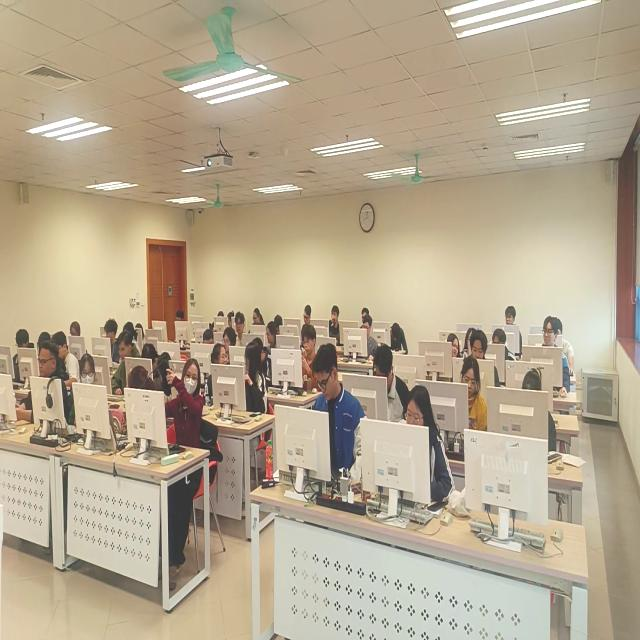raise_hand: (167, 357, 204, 452)
raise_head: (543, 316, 572, 393), (506, 305, 523, 359), (330, 306, 341, 346), (236, 312, 248, 347), (360, 308, 370, 329)
using_computer: (312, 343, 369, 486), (404, 386, 458, 507), (10, 342, 69, 427), (373, 344, 412, 425), (523, 369, 558, 453), (461, 357, 488, 433), (112, 331, 142, 395), (472, 330, 501, 389), (52, 332, 81, 383), (142, 344, 172, 391), (9, 330, 35, 383), (554, 318, 575, 377), (254, 338, 275, 387), (493, 328, 518, 363), (362, 316, 379, 360), (104, 320, 121, 364), (167, 311, 186, 345), (71, 320, 88, 355), (390, 323, 409, 354), (463, 329, 477, 357), (266, 322, 280, 349), (224, 328, 238, 350), (252, 308, 267, 328), (302, 305, 313, 327), (203, 330, 216, 346), (124, 323, 137, 339), (136, 324, 146, 344), (275, 316, 284, 335), (39, 332, 52, 344), (217, 312, 225, 318)
using_phone: (302, 326, 323, 394)
